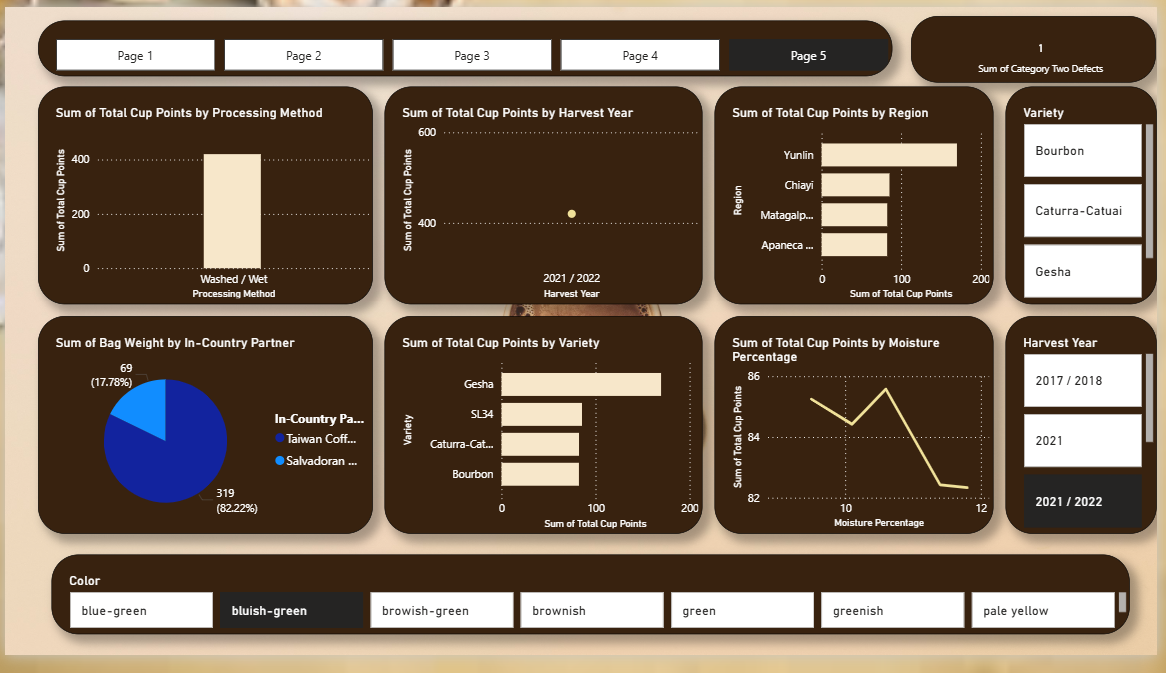

This screenshot's page, from the dashboard's own definition file:
{"tool":"powerbi","page":{"name":"Page 5","canvas":[1280,720],"ordinal":4},"visuals":[{"type":"pageNavigator","box":[36.6,14.3,949.6,62],"z":0},{"type":"card","fields":{"Values":["Sum(df_arabica_clean csv.Category Two Defects)"]},"box":[1007.3,9.4,272.1,73.7],"z":1000},{"type":"clusteredColumnChart","fields":{"Y":["Sum(df_arabica_clean csv.Total Cup Points)"],"Category":["df_arabica_clean csv.Processing Method"]},"box":[35.9,88.8,372.3,241.9],"z":2000},{"type":"pieChart","fields":{"Category":["df_arabica_clean csv.In-Country Partner"],"Y":["Sum(df_arabica_clean csv.Bag Weight)"]},"box":[35.9,343.9,372.3,241.9],"z":3000},{"type":"lineChart","fields":{"Category":["df_arabica_clean csv.Harvest Year"],"Y":["Sum(df_arabica_clean csv.Total Cup Points)"]},"box":[421.5,89.1,353.1,241.8],"z":4000},{"type":"clusteredBarChart","fields":{"Category":["df_arabica_clean csv.Variety"],"Y":["Sum(df_arabica_clean csv.Total Cup Points)"]},"box":[422,344,353,242],"z":5000},{"type":"barChart","fields":{"Category":["df_arabica_clean csv.Region"],"Y":["Sum(df_arabica_clean csv.Total Cup Points)"]},"box":[788,88.8,309.9,241.9],"z":6000},{"type":"lineChart","fields":{"Y":["Sum(df_arabica_clean csv.Total Cup Points)"],"Category":["df_arabica_clean csv.Moisture Percentage"]},"box":[788,343.9,309.9,241.9],"z":7000},{"type":"advancedSlicerVisual","fields":{"Values":["df_arabica_clean csv.Variety"]},"box":[1111.2,88.8,168.2,241.9],"z":7001},{"type":"advancedSlicerVisual","fields":{"Values":["df_arabica_clean csv.Harvest Year"]},"box":[1111,344,168,242],"z":7002},{"type":"advancedSlicerVisual","fields":{"Values":["df_arabica_clean csv.Color"]},"box":[51,608.5,1198.1,88.8],"z":7003}]}

Visuals, with their boxes in screenshot pixels (x1, y1, x2, y2), scaled from the page's 1280x720 canvas onto the 1166x673 screenshot:
pageNavigator: bbox=(33, 13, 898, 71)
card - Sum(df_arabica_clean csv.Category Two Defects): bbox=(918, 9, 1165, 78)
clusteredColumnChart - Sum(df_arabica_clean csv.Total Cup Points) x df_arabica_clean csv.Processing Method: bbox=(33, 83, 372, 309)
pieChart - df_arabica_clean csv.In-Country Partner x Sum(df_arabica_clean csv.Bag Weight): bbox=(33, 321, 372, 548)
lineChart - df_arabica_clean csv.Harvest Year x Sum(df_arabica_clean csv.Total Cup Points): bbox=(384, 83, 706, 309)
clusteredBarChart - df_arabica_clean csv.Variety x Sum(df_arabica_clean csv.Total Cup Points): bbox=(384, 322, 706, 548)
barChart - df_arabica_clean csv.Region x Sum(df_arabica_clean csv.Total Cup Points): bbox=(718, 83, 1000, 309)
lineChart - Sum(df_arabica_clean csv.Total Cup Points) x df_arabica_clean csv.Moisture Percentage: bbox=(718, 321, 1000, 548)
advancedSlicerVisual - df_arabica_clean csv.Variety: bbox=(1012, 83, 1165, 309)
advancedSlicerVisual - df_arabica_clean csv.Harvest Year: bbox=(1012, 322, 1165, 548)
advancedSlicerVisual - df_arabica_clean csv.Color: bbox=(46, 569, 1138, 652)
